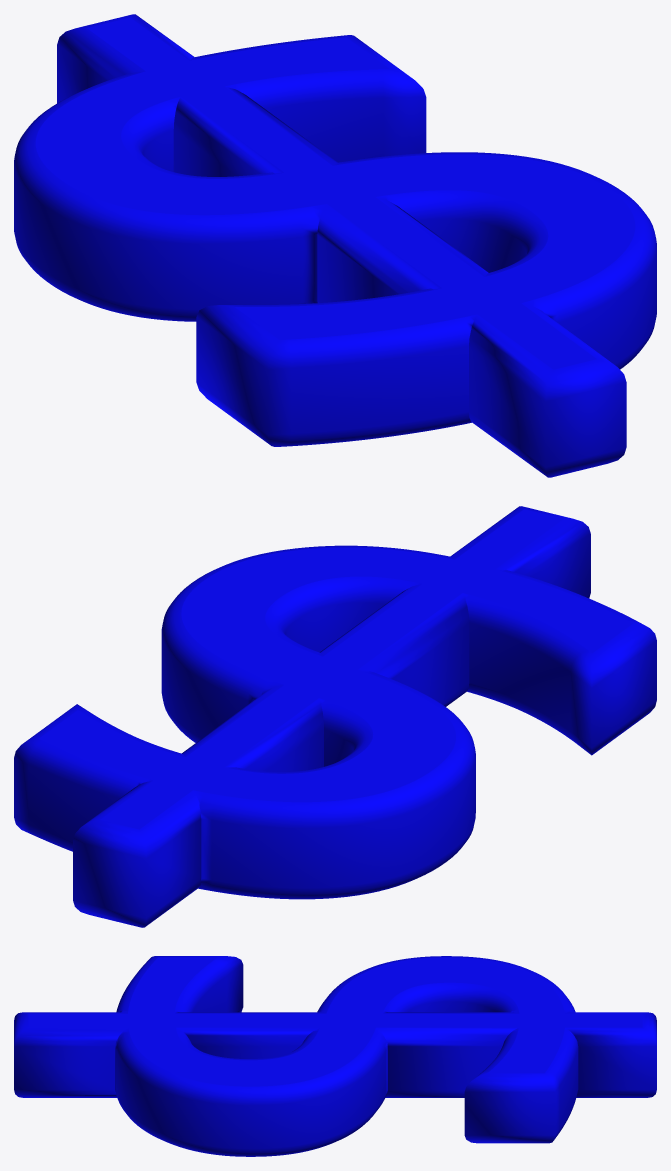
The picture shows the model from 3 angles, top to bottom: view 1: azimuth 30°, elevation 25°; view 2: azimuth 150°, elevation 25°; view 3: azimuth 270°, elevation 25°; orthographic projection. The views are drawn at different scales.
Visible parts, largest first — view 1: 36; view 2: 36; view 3: 36.
Boxes of the visible parts, x1,y1,x2,y2 form: 36: (14,14,656,477); 36: (14,506,656,927); 36: (14,956,656,1156).
Bounding box in the file's own units: 0.7033 × 0.16 × 1.35.
